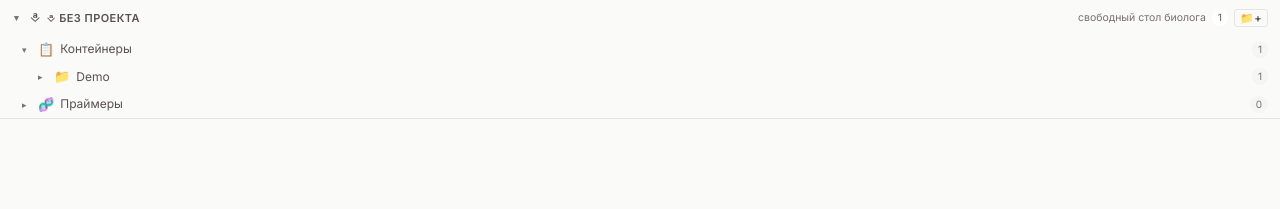
it: K2 — LooseZone (post 09.05.2026 structural sub-folders) › auto-materialises folder rows for entries whose folderPath has no matching looseFolders entry
Open Demo, then Demo/Bacterial → entry is visible.
Click the button with test id "tree-folder-loose-user-Demo": {"x": 93, "y": 76} [0,63,1279,90]
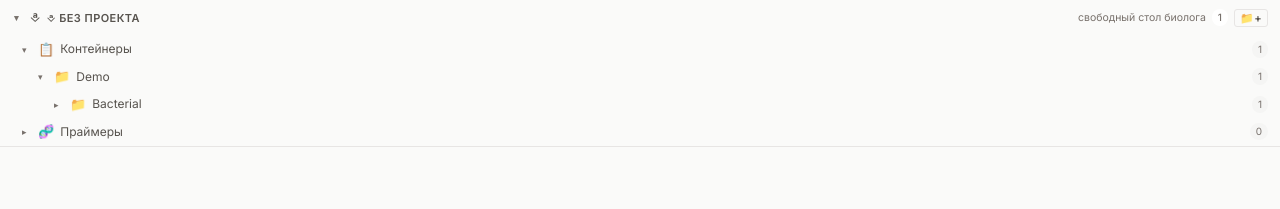
Click the button with test id "tree-folder-loose-user-Demo/Bacterial": {"x": 117, "y": 104} [0,90,1279,118]
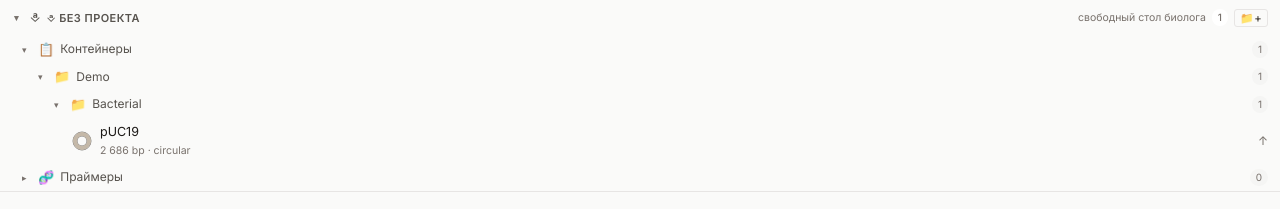
Expected: the button with test id "tree-item-loose-e1" is shown, [0,118,1279,164]
